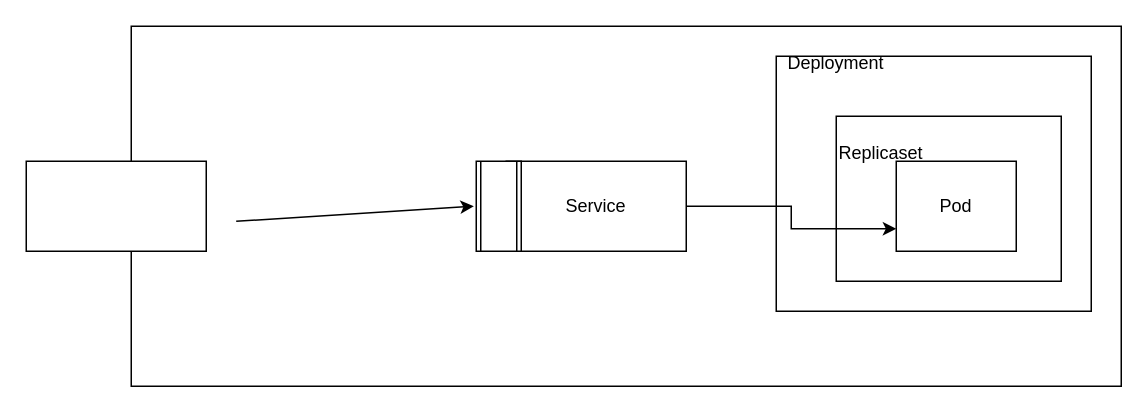
This 1148x413 diagram has some shape labels left out. Here are the shapes that lost their labels. From the top down, the centre of each, then its label:
At point (115, 205): "Ingress Controller (Proxy Server) Nginx".
At point (498, 205): "port".
